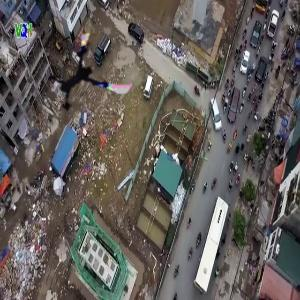drone: (43, 32, 128, 117)
